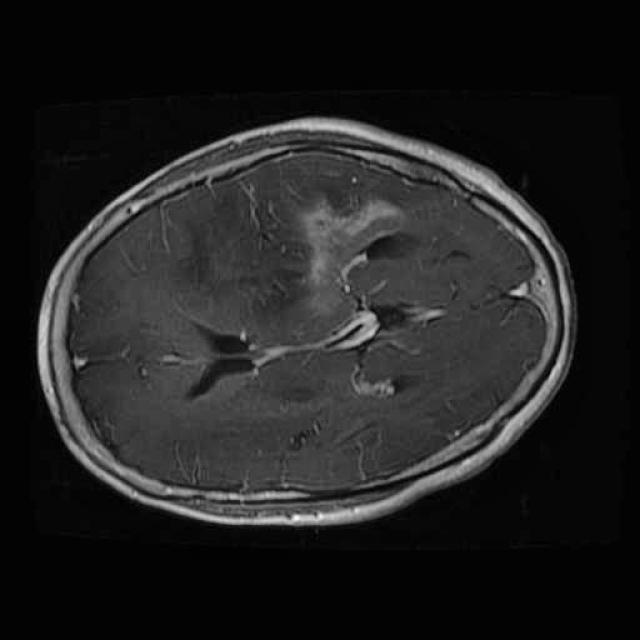Non-Tumor: (272, 181, 412, 309)
